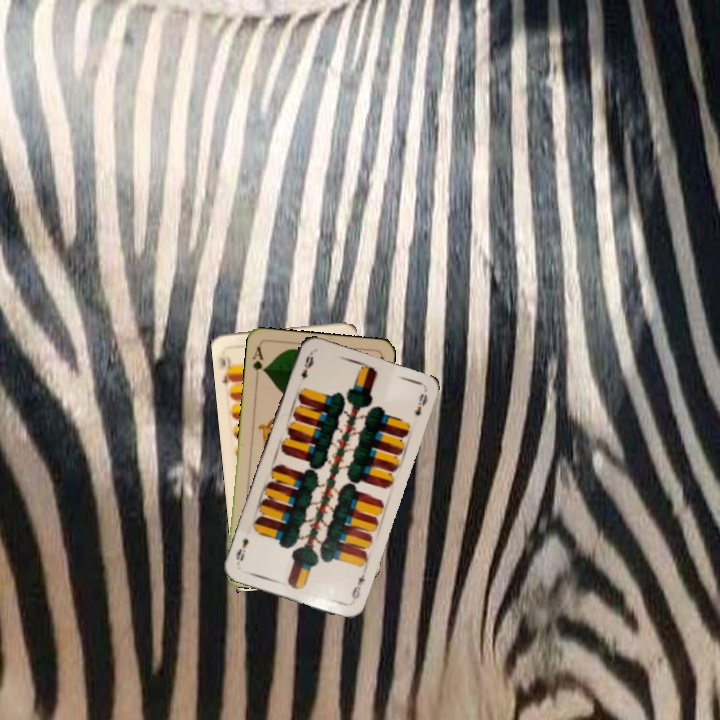E10: (215, 347, 237, 387)
E9: (297, 349, 316, 381), (348, 570, 367, 602)
GA: (248, 342, 267, 383)
